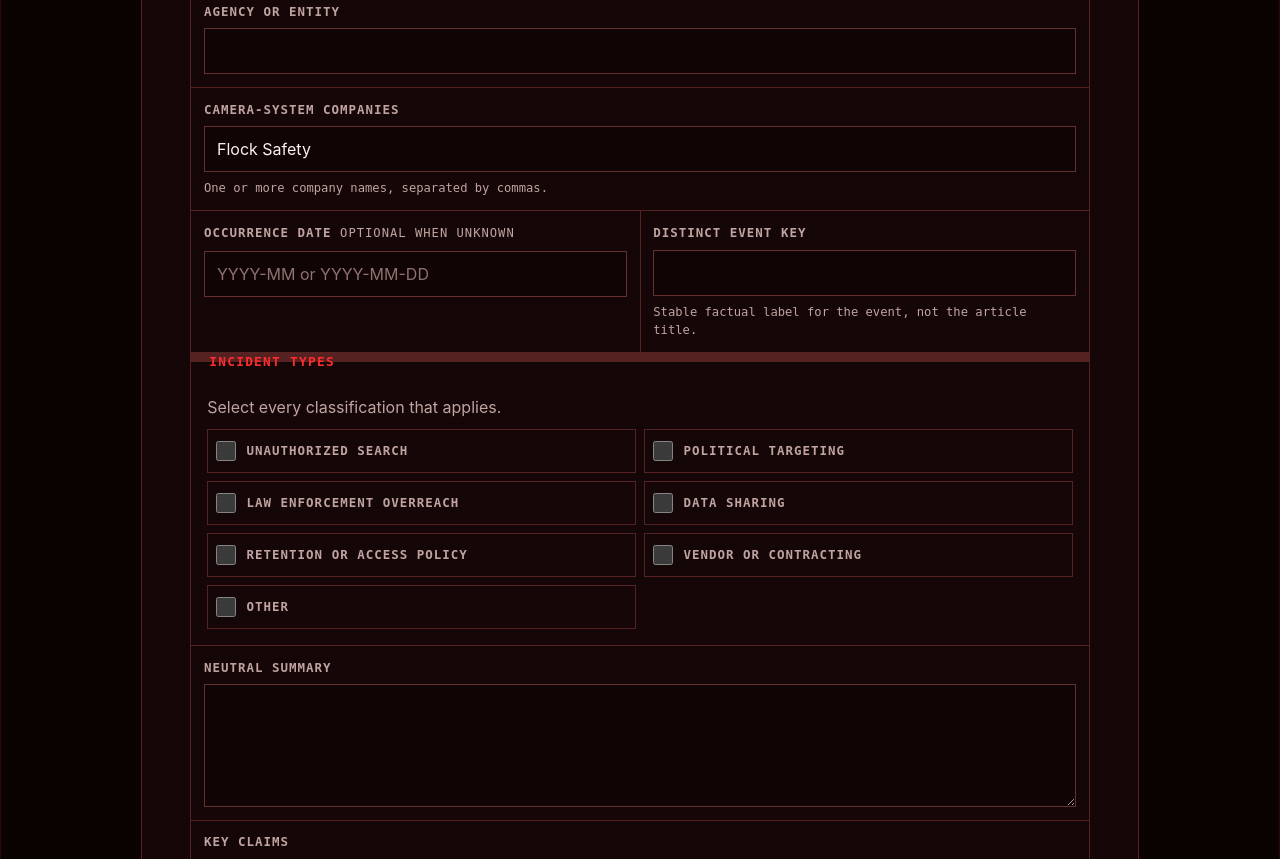
Test: admin intake accessibility and recovery › announces probable duplicate warnings and maps server validation to the failing field
(page scrolled)
Click the checkbox labelled "Unauthorized Search" at (226, 451), box 216,441 -> 236,461
(page scrolled)
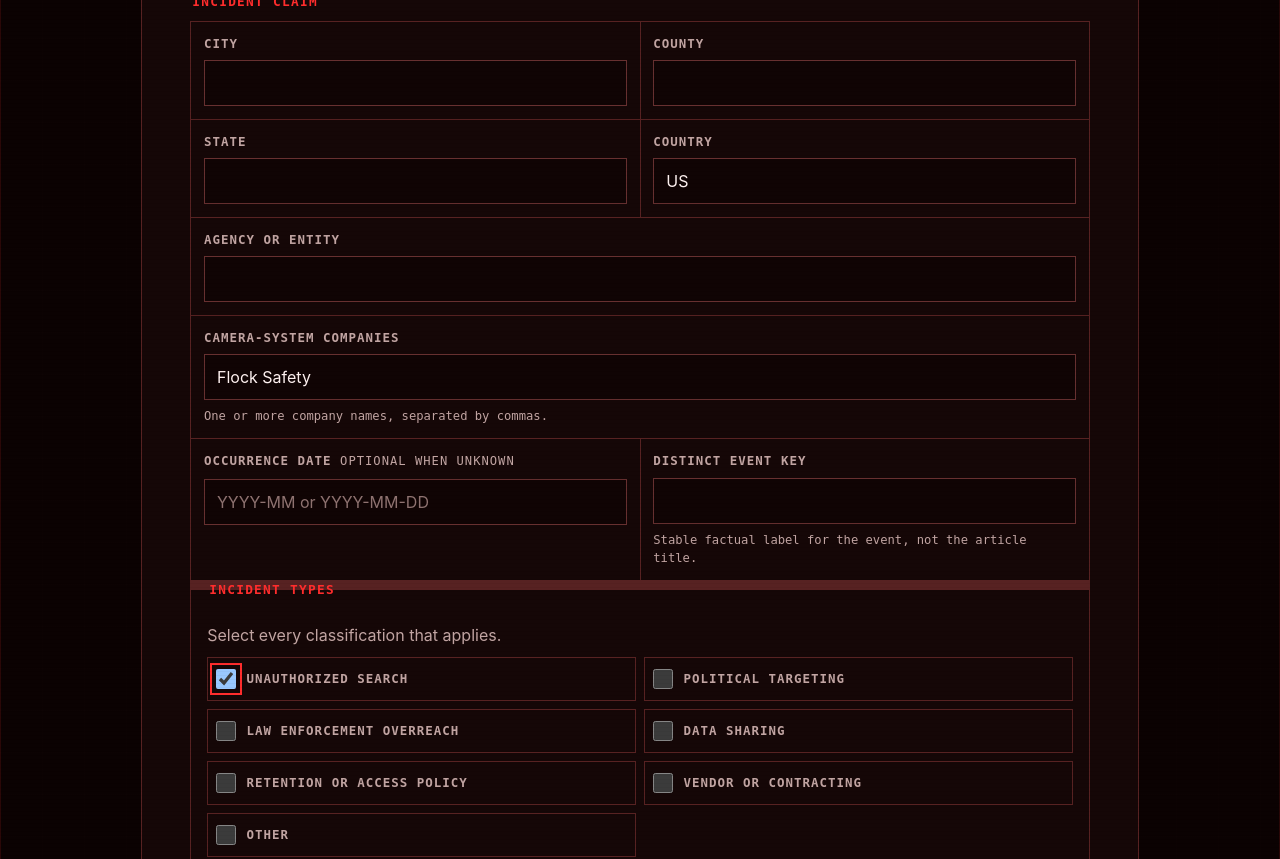
Submit the form named "Save candidate for review"
(page scrolled)
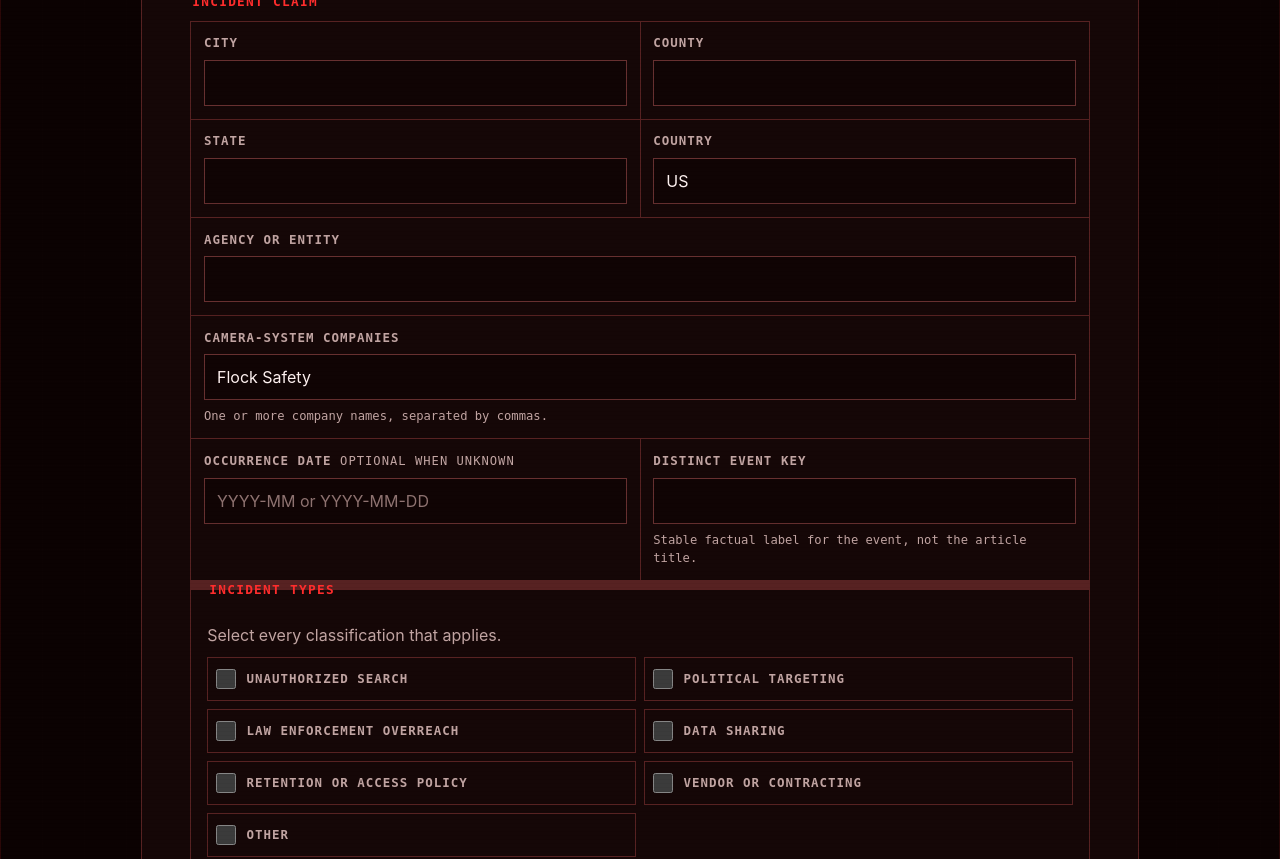
Click the checkbox labelled "Unauthorized Search" at (226, 678), box 216,668 -> 236,688
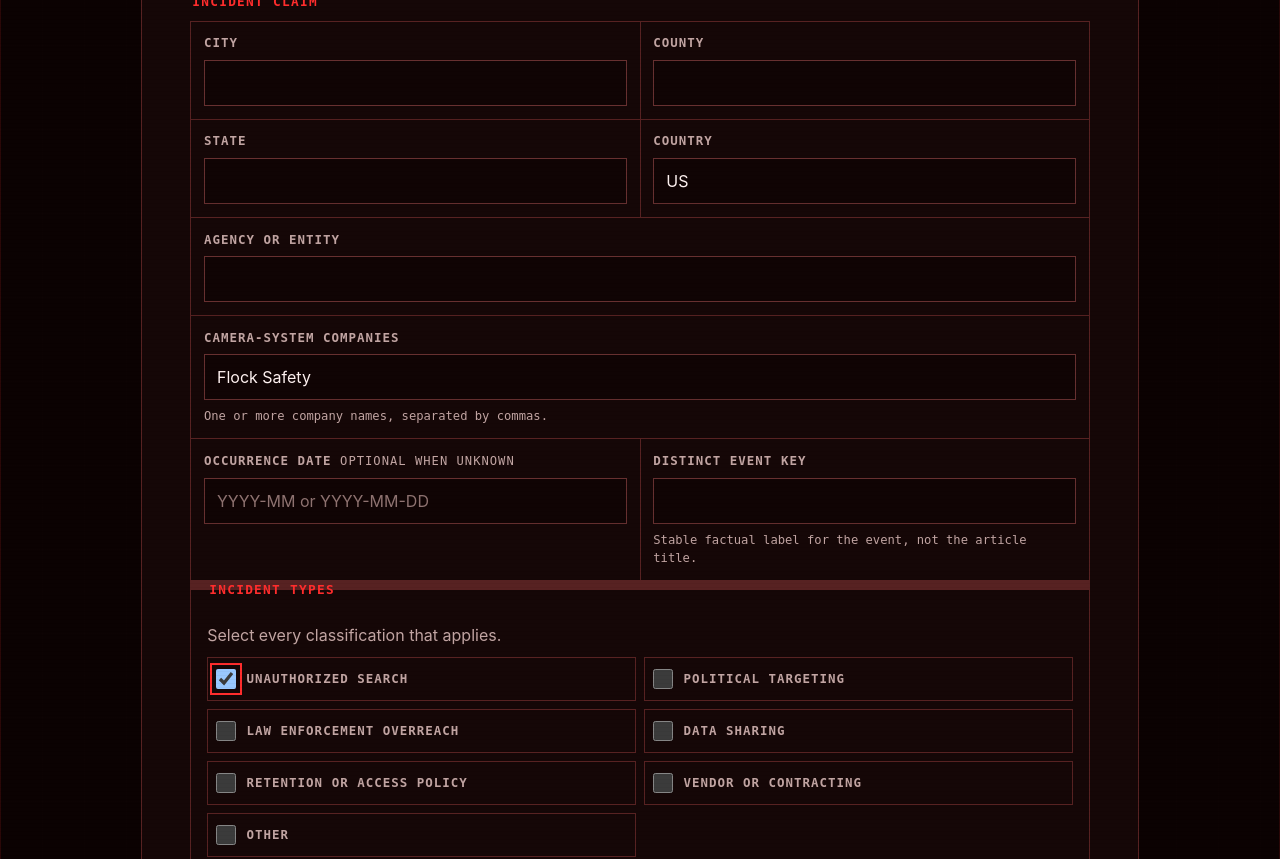
Submit the form named "Save candidate for review"
(page scrolled)
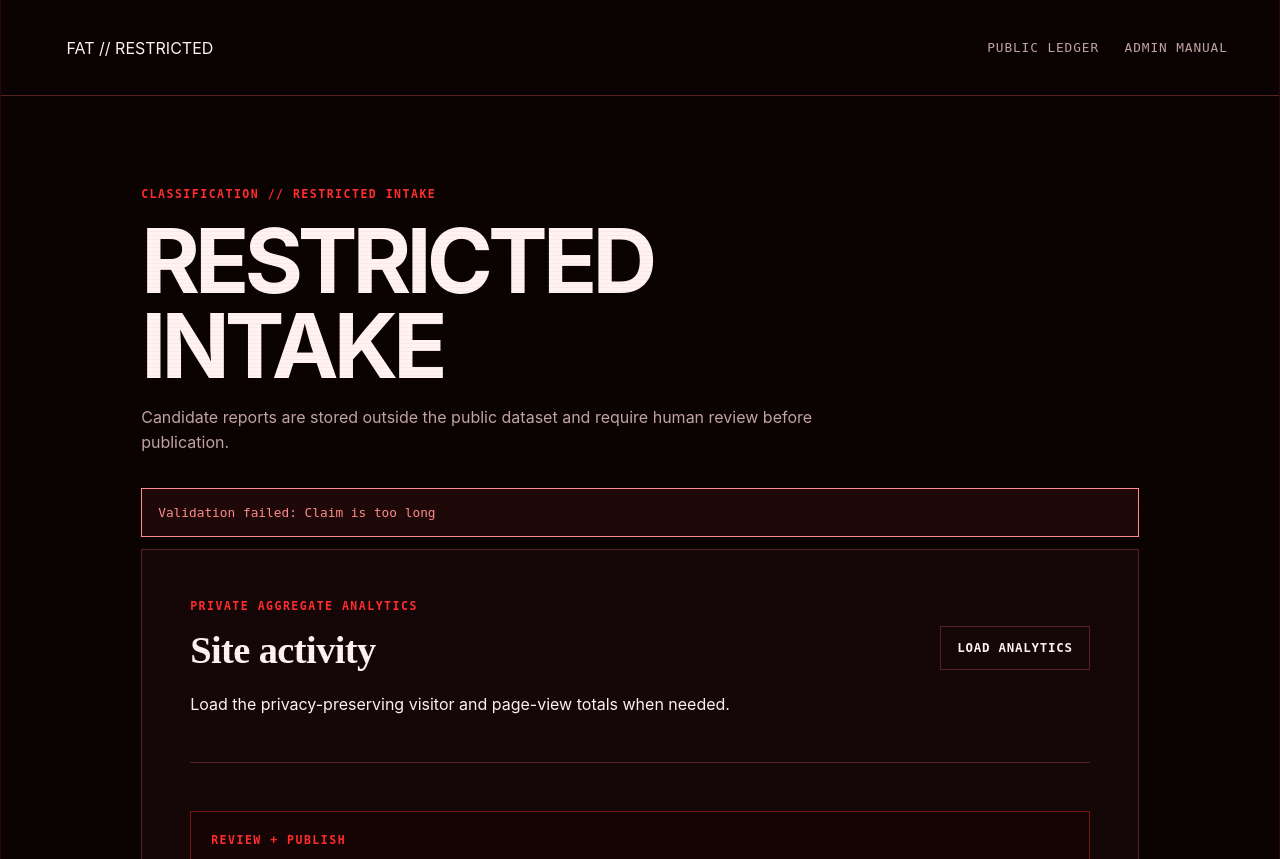
Expected: the message shows "Claim is too long", 158,505 -> 436,520
